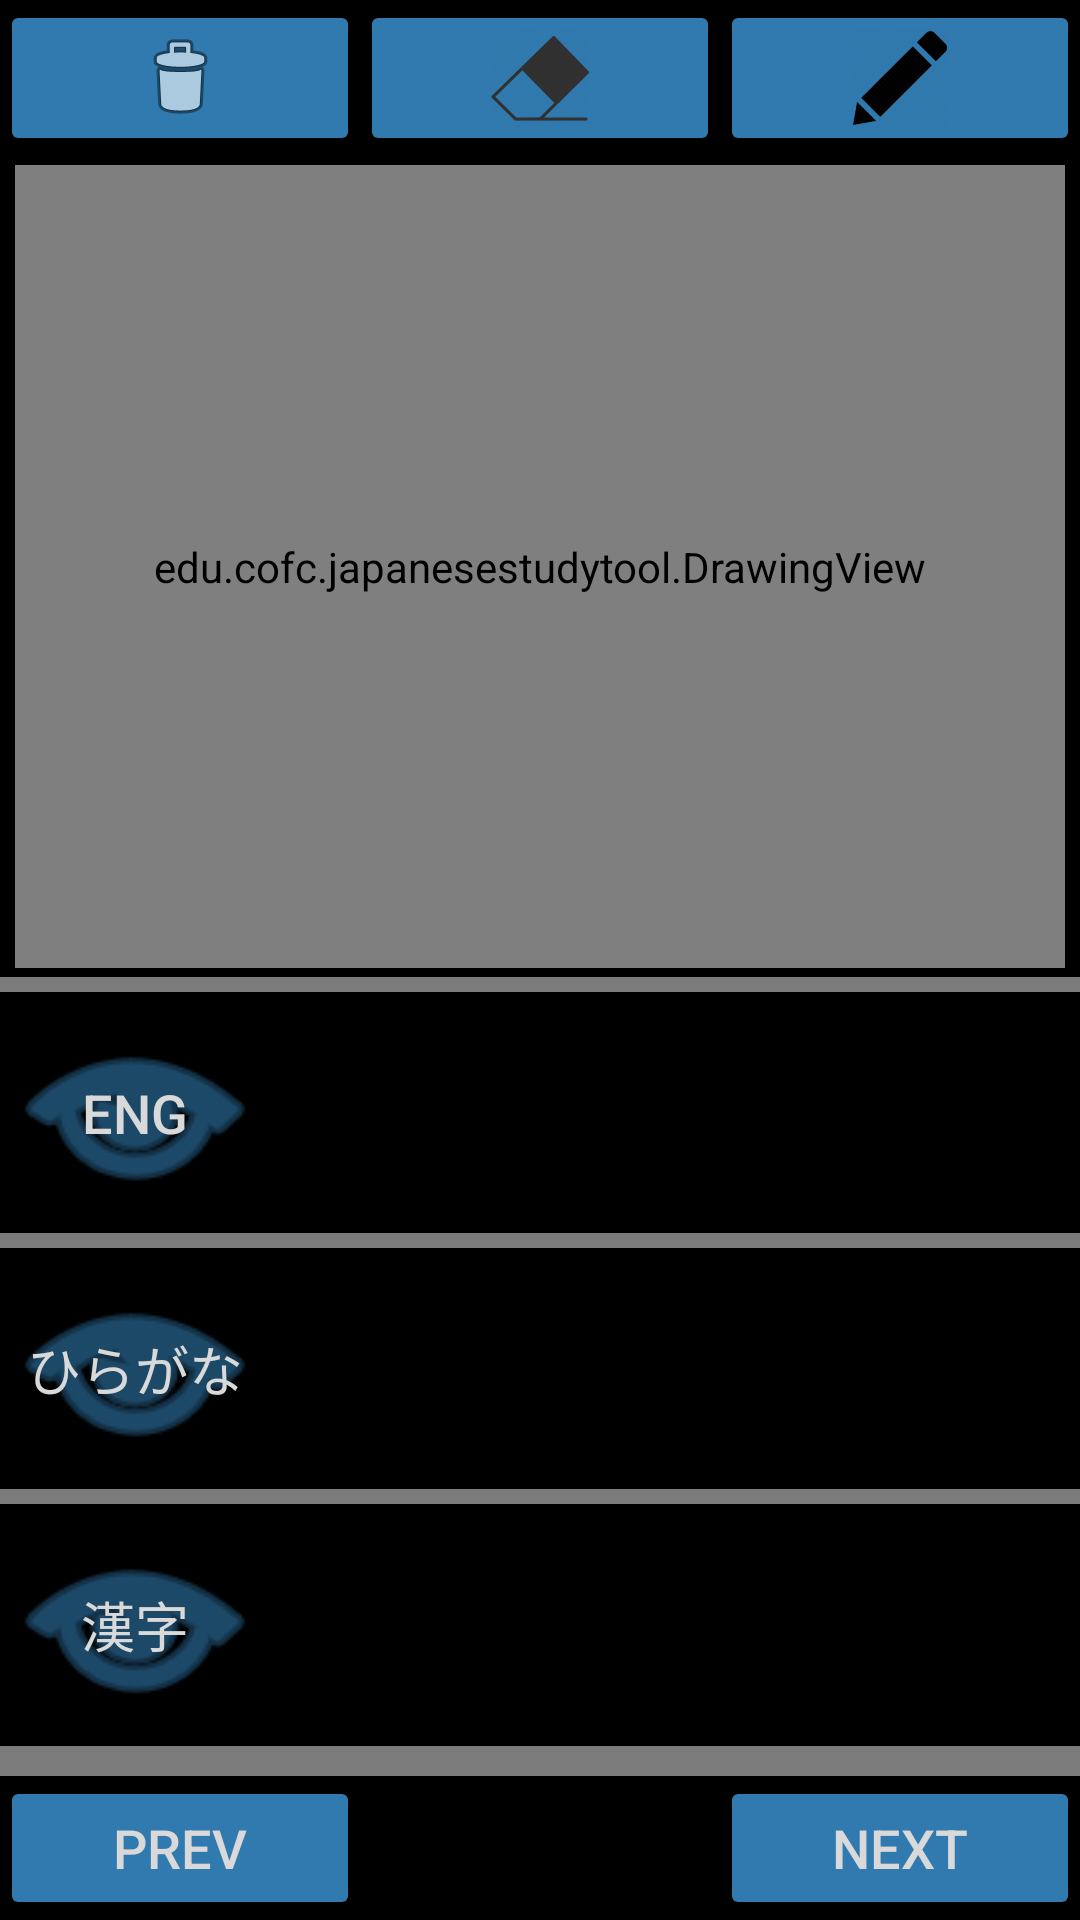

Locate icon controls on the screen. Image size 1080 x 1920, boxes as (x1, y1, x2, y2).
delete: (12, 18, 348, 138)
erase: (372, 18, 708, 138)
write: (732, 18, 1068, 138)
